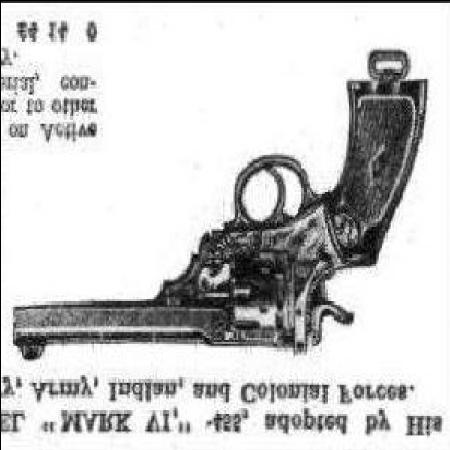Pistol: (14, 78, 430, 362)
